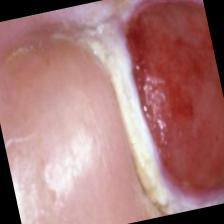wound-ulser: (98, 0, 224, 219)
